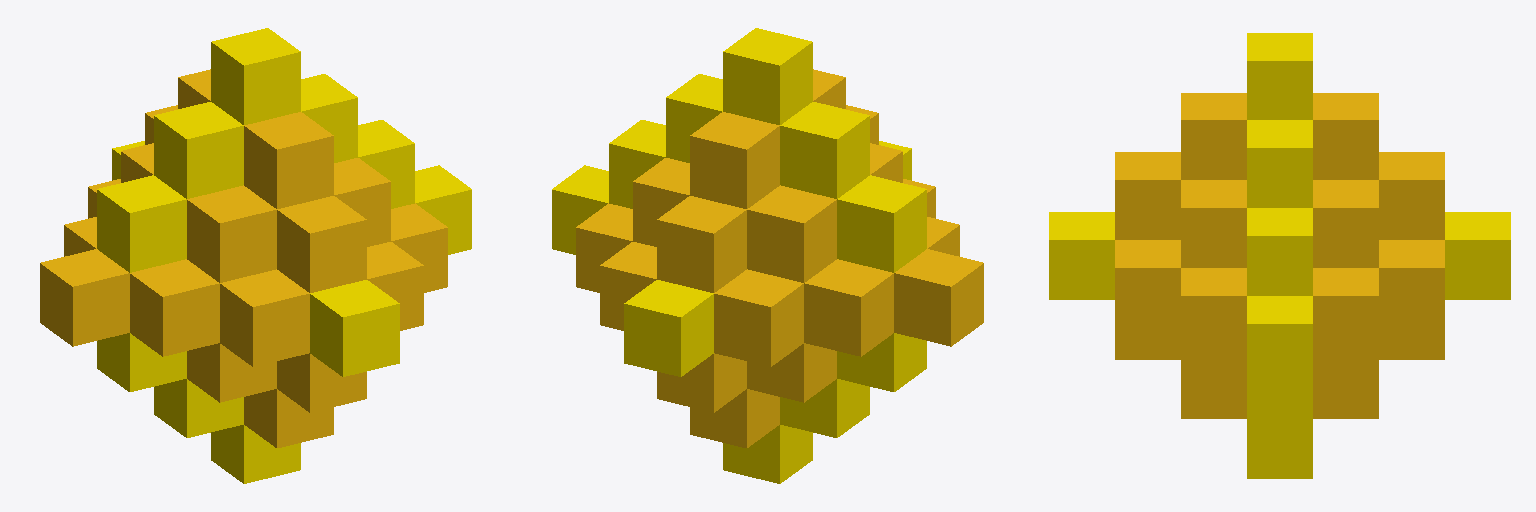
3 renders of one model, left to right at view 1: azimuth 30°, elevation 25°; view 2: azimuth 150°, elevation 25°; view 3: azimuth 270°, elevation 25°, orthographic.
Visible parts, largest first — view 1: Matrix_2; view 2: Matrix_2; view 3: Matrix_2.
Part boxes in pixels (left/top/right/bottom): Matrix_2: left=40, top=28, right=471, bottom=483; Matrix_2: left=552, top=28, right=983, bottom=483; Matrix_2: left=1049, top=33, right=1510, bottom=478.
Bounding box in the file's own units: 7 × 7 × 7.
Materials: 1 (1 with a texture image).